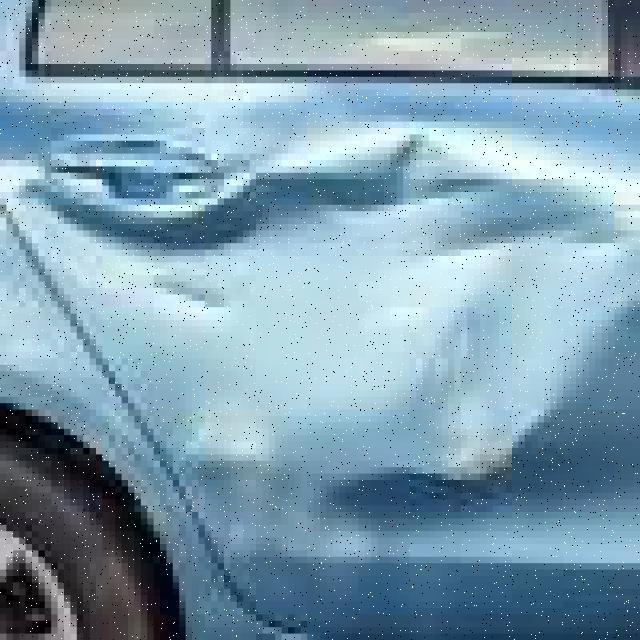fender: (71, 77, 634, 500)
